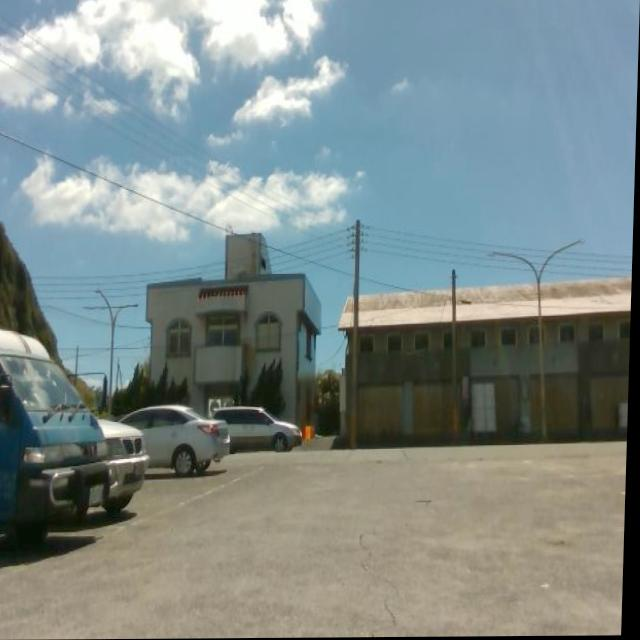pollute: (307, 422, 320, 442)
